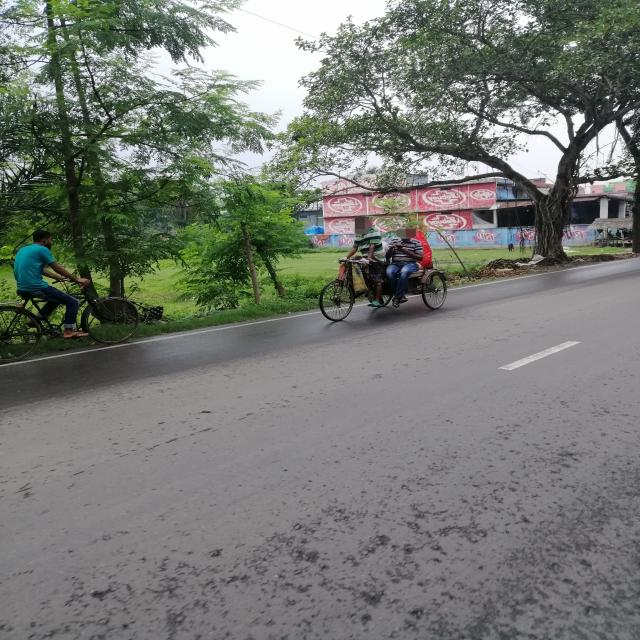Bicycle: (1, 275, 149, 363)
